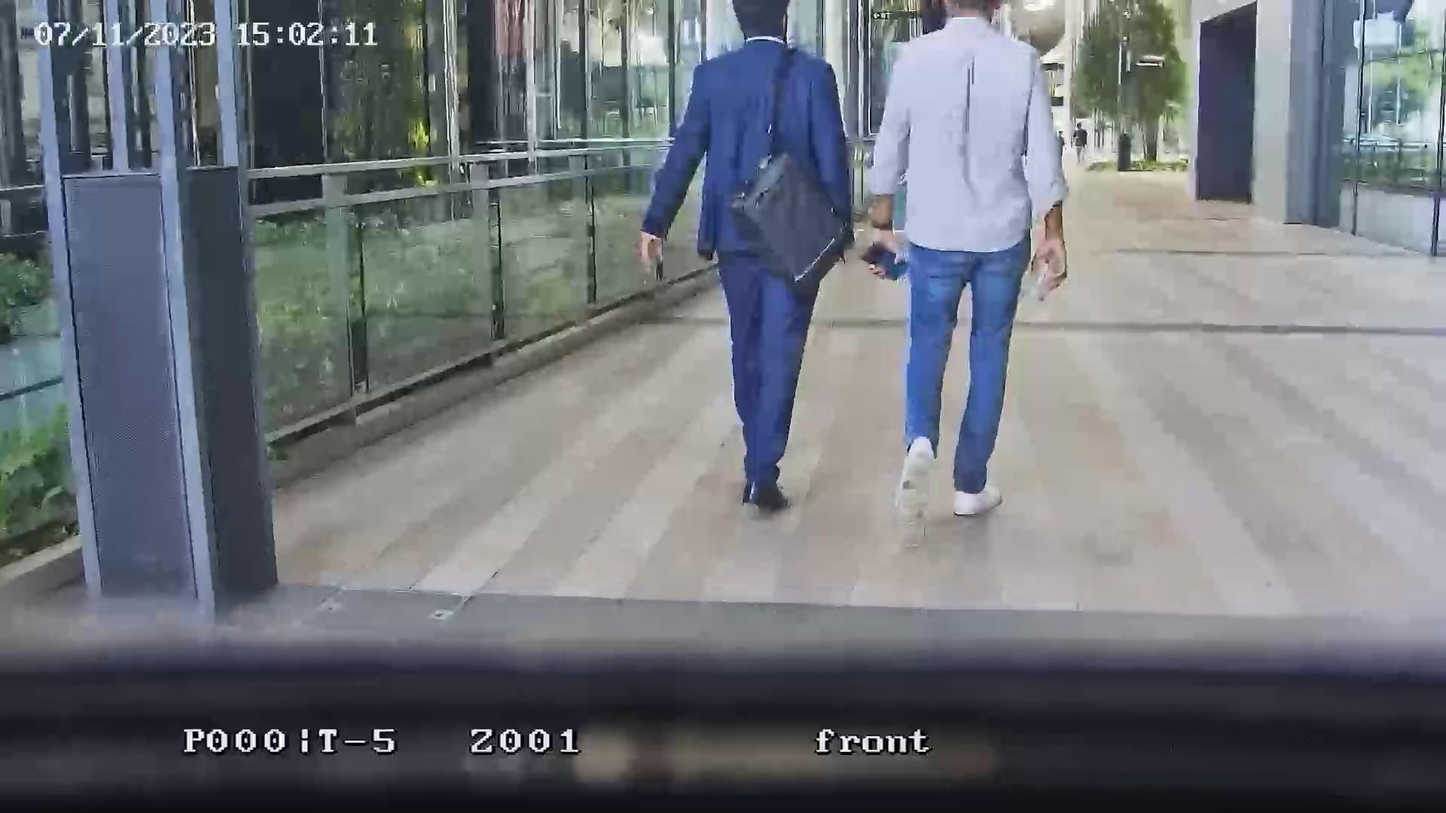person: (633, 1, 856, 516), (864, 1, 1070, 522), (1071, 123, 1089, 165)
